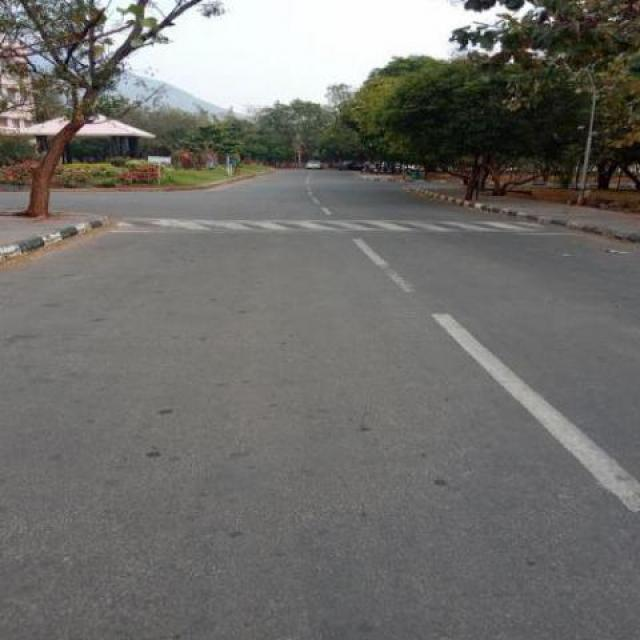Speed Bump: (104, 217, 556, 232)
